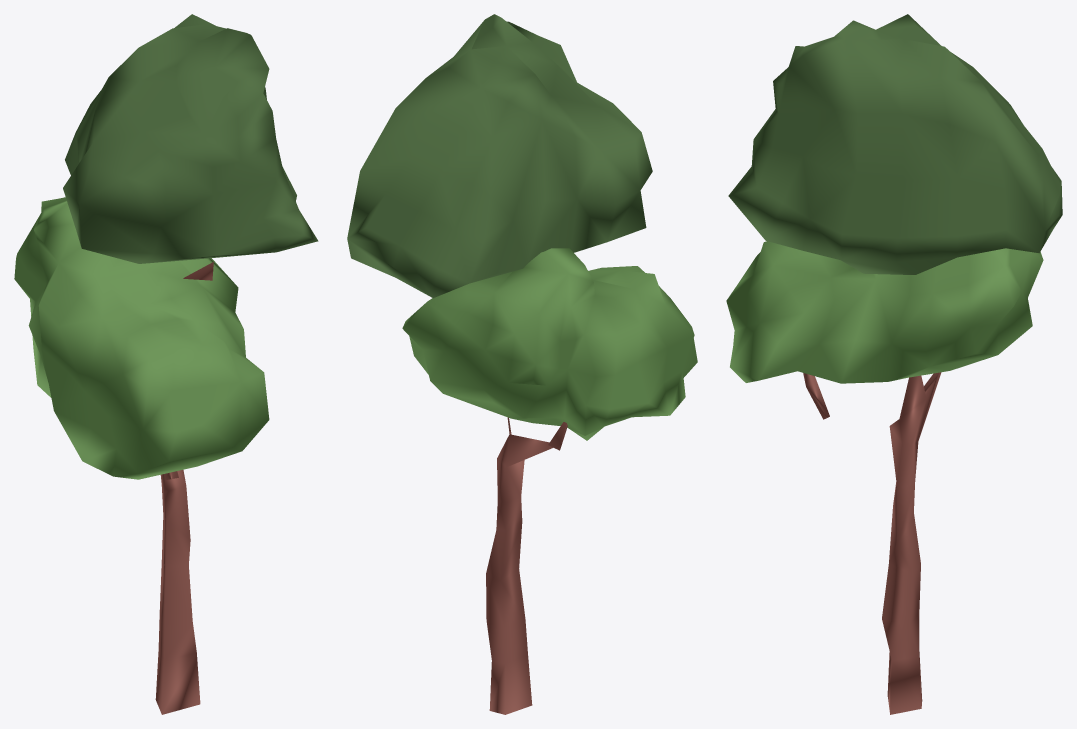
File: CommonTree_3_lod.glb
3 renders of one model, left to right at view 1: azimuth 30°, elevation 25°; view 2: azimuth 150°, elevation 25°; view 3: azimuth 270°, elevation 25°, orthographic. The views are drawn at different scales.
Parts seen in each view (by area): view 1: CommonTree_3; view 2: CommonTree_3; view 3: CommonTree_3.
Part boxes in pixels (bbox=[...]): CommonTree_3: bbox=[14, 14, 318, 714]; CommonTree_3: bbox=[347, 14, 697, 714]; CommonTree_3: bbox=[726, 14, 1062, 714].
Size of the model in its own units: 128 by 345 by 150.
